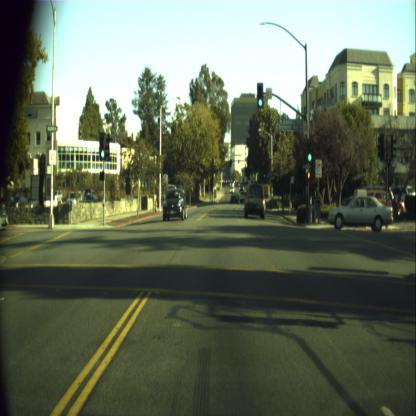Green: (256, 82, 264, 107), (99, 132, 106, 160), (306, 138, 312, 162), (262, 170, 266, 180)
